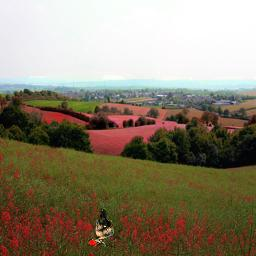Woodpecker: (88, 208, 114, 246)
